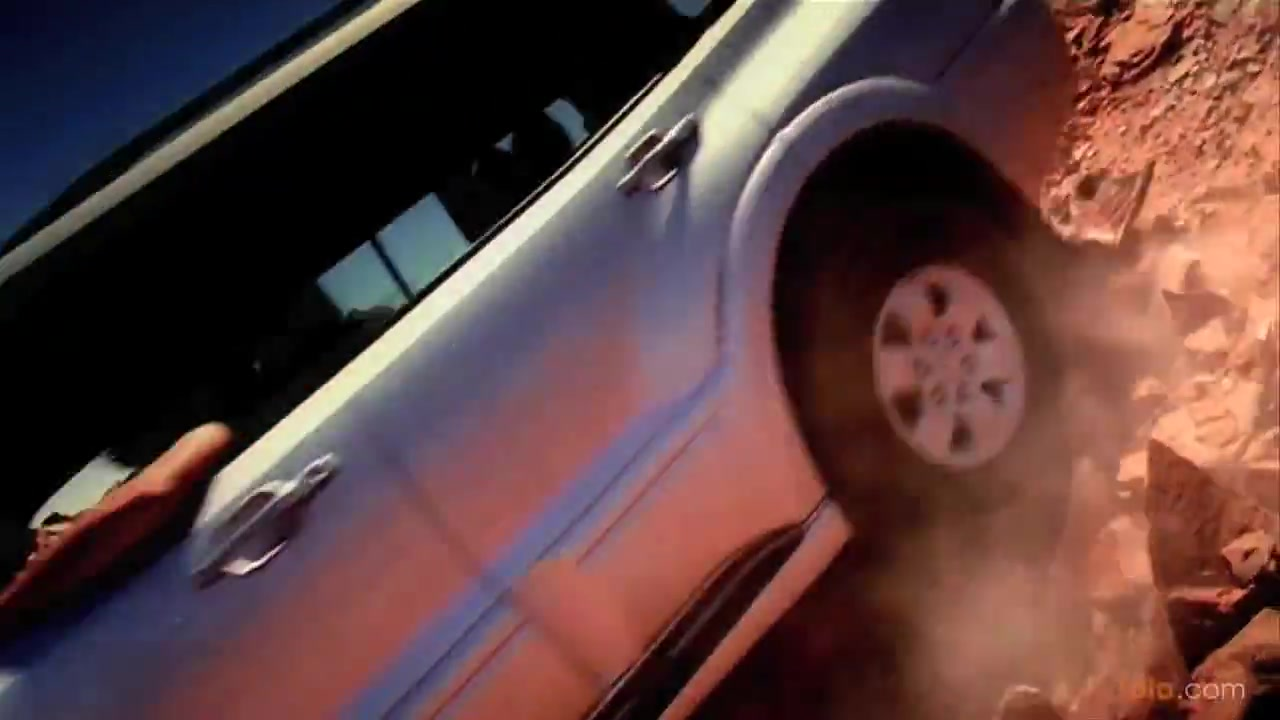car: (1, 5, 1086, 720)
